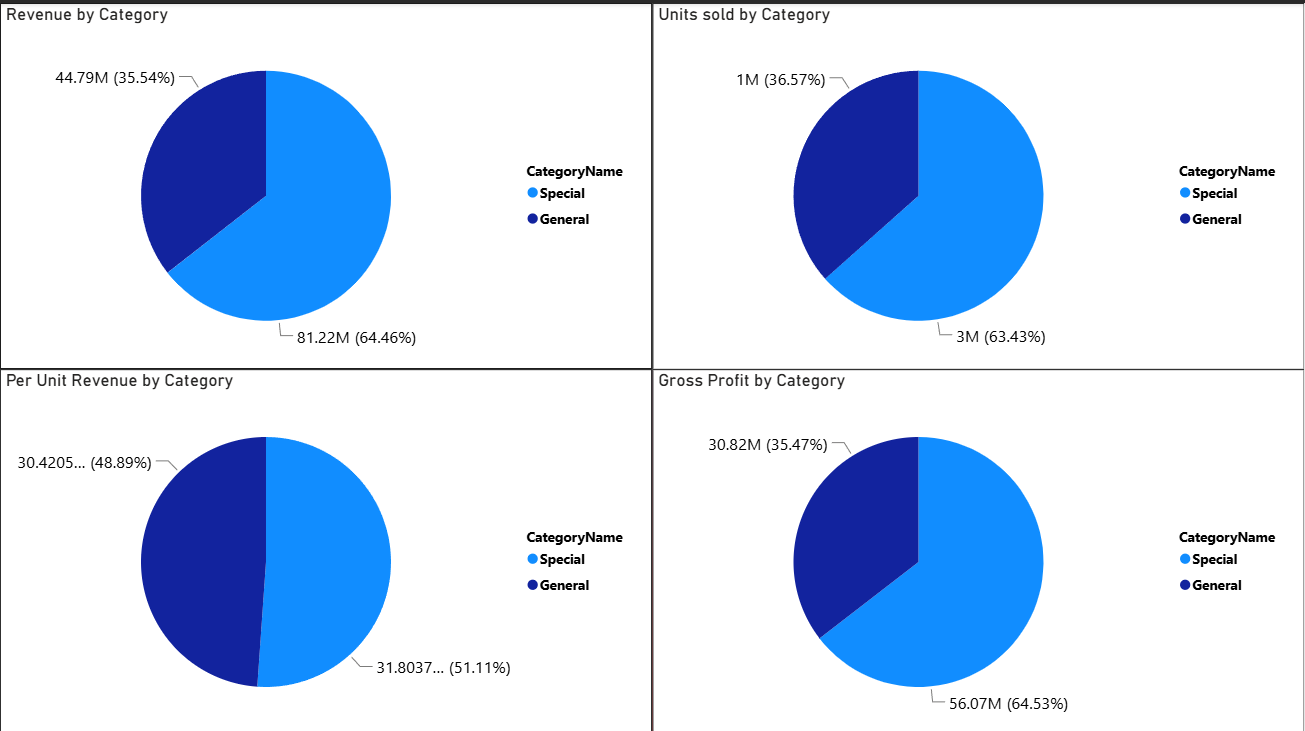

The dashboard page shown, as its layout file describes it:
{"tool":"powerbi","page":{"name":"Category/Sub Category wise KPI","canvas":[1280,720],"ordinal":6},"visuals":[{"type":"pieChart","title":"Revenue by Category","fields":{"Category":["DimCategory.CategoryName","DimSubCategory.SubCategory Name"],"Y":["Sum(FactSales.Total Revenue)"]},"box":[0,0,640,360],"z":0},{"type":"pieChart","title":"Units sold by Category","fields":{"Category":["DimCategory.CategoryName","DimSubCategory.SubCategory Name"],"Y":["Sum(FactSales.Units)"]},"box":[640,0,640,360],"z":1000},{"type":"pieChart","title":"Gross Profit by Category","fields":{"Category":["DimCategory.CategoryName","DimSubCategory.SubCategory Name"],"Y":["FactSales.Total Gross Profit"]},"box":[640,360,640,360],"z":2000},{"type":"pieChart","title":"Per Unit Revenue by Category","fields":{"Category":["DimCategory.CategoryName","DimSubCategory.SubCategory Name"],"Y":["FactSales.Revenue per Unit"]},"box":[0,360,640,360],"z":3000}]}

Visuals, with their boxes in screenshot pixels (x1, y1, x2, y2), scaled from the page's 1280x720 canvas onto the 1305x731 screenshot:
"Revenue by Category" pieChart: [x1=0, y1=0, x2=652, y2=366]
"Units sold by Category" pieChart: [x1=652, y1=0, x2=1304, y2=366]
"Gross Profit by Category" pieChart: [x1=652, y1=366, x2=1304, y2=730]
"Per Unit Revenue by Category" pieChart: [x1=0, y1=366, x2=652, y2=730]
